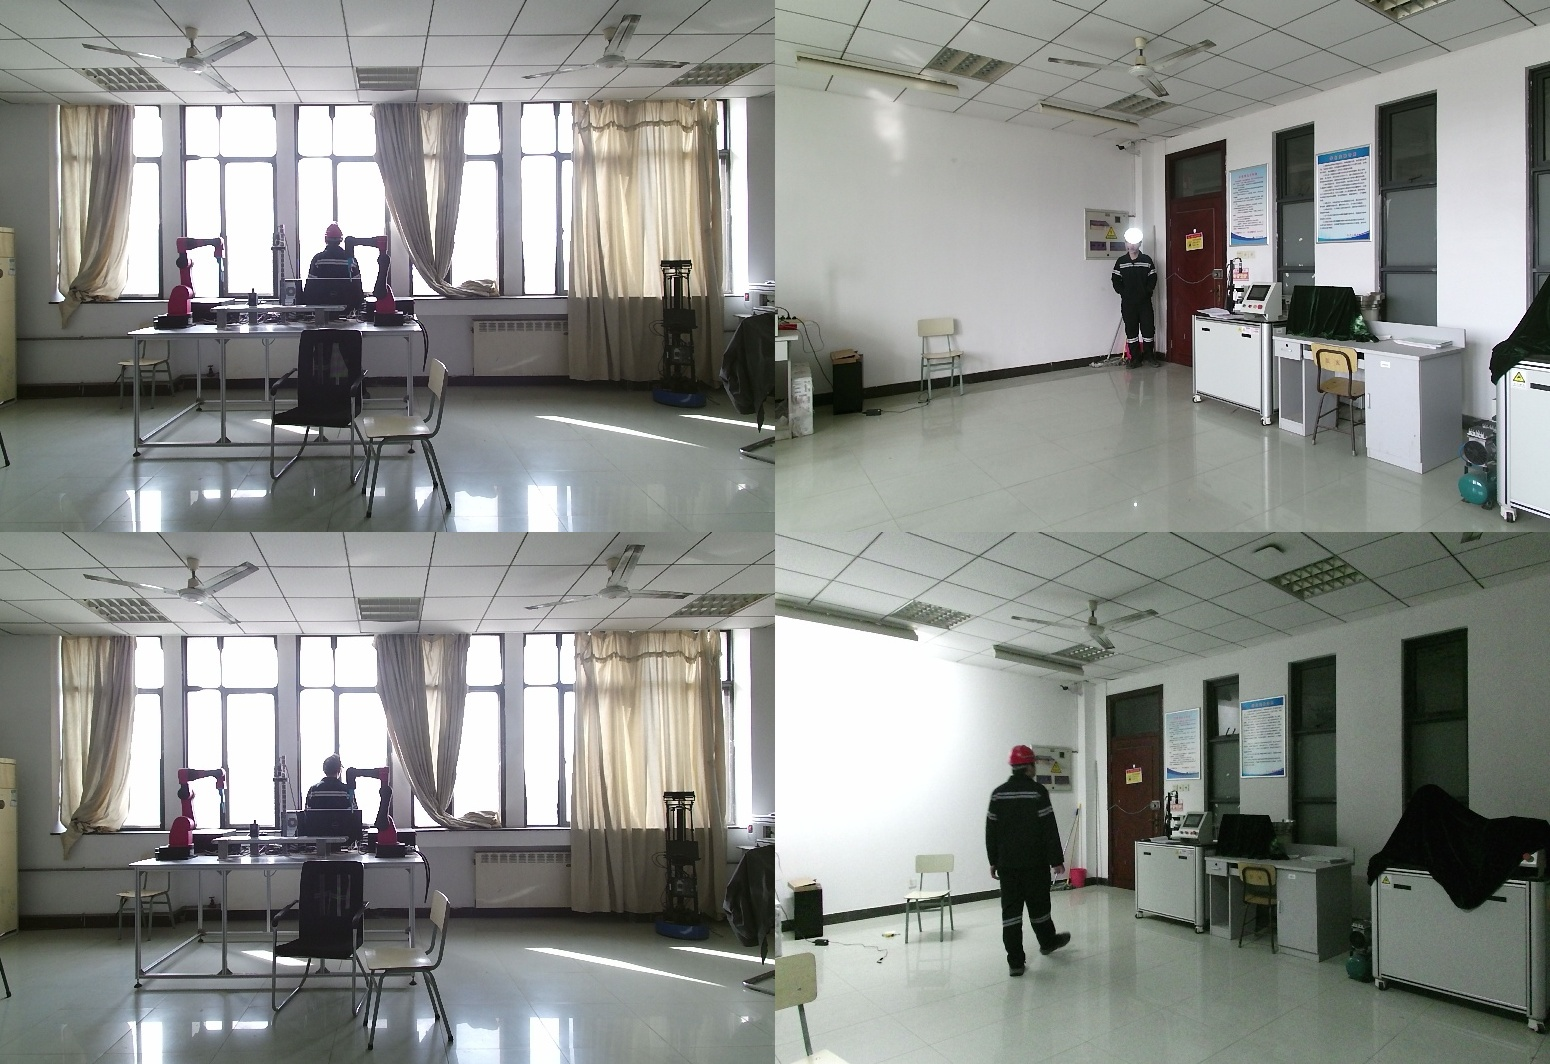person: (976, 744, 1073, 979), (302, 225, 362, 380), (1113, 232, 1162, 369), (299, 754, 364, 841)
